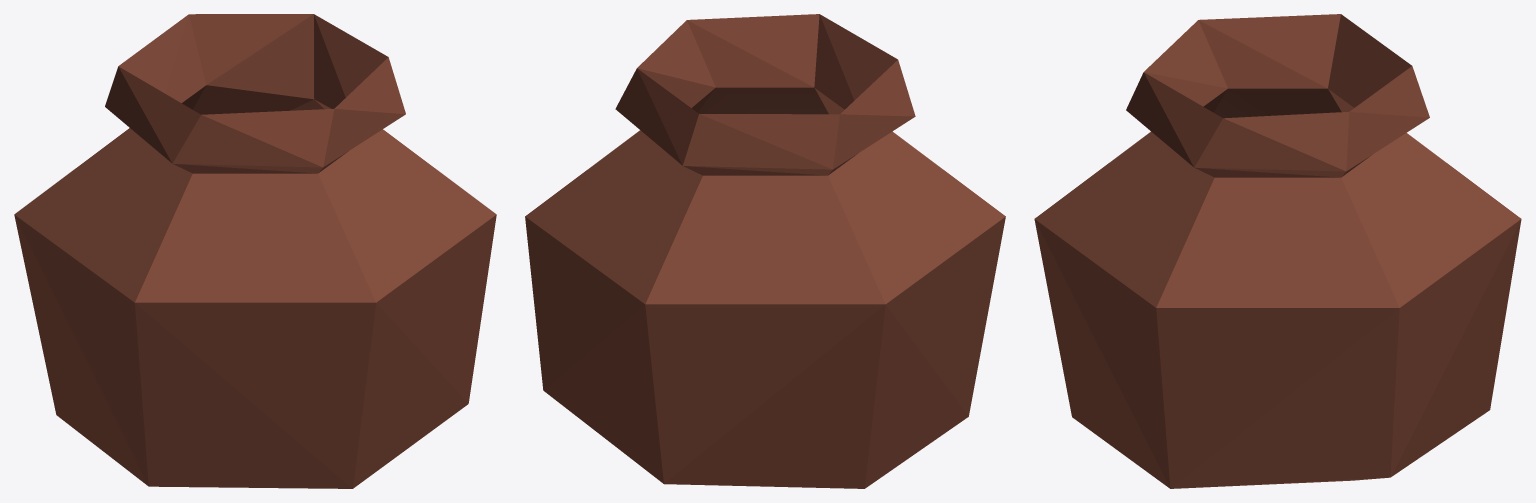
The model's file is Flat_Vase_01.fbx.
3 views of the same model, side by side, from view 1: azimuth 30°, elevation 25°; view 2: azimuth 150°, elevation 25°; view 3: azimuth 270°, elevation 25° (orthographic).
Parts seen in each view (by area): view 1: Vase_01; view 2: Vase_01; view 3: Vase_01.
Part boxes in pixels (x1,y1,x2,y2): Vase_01: [14, 14, 496, 488]; Vase_01: [525, 14, 1005, 488]; Vase_01: [1034, 14, 1521, 488].
Bounding box in the file's own units: 128 × 120 × 147.
